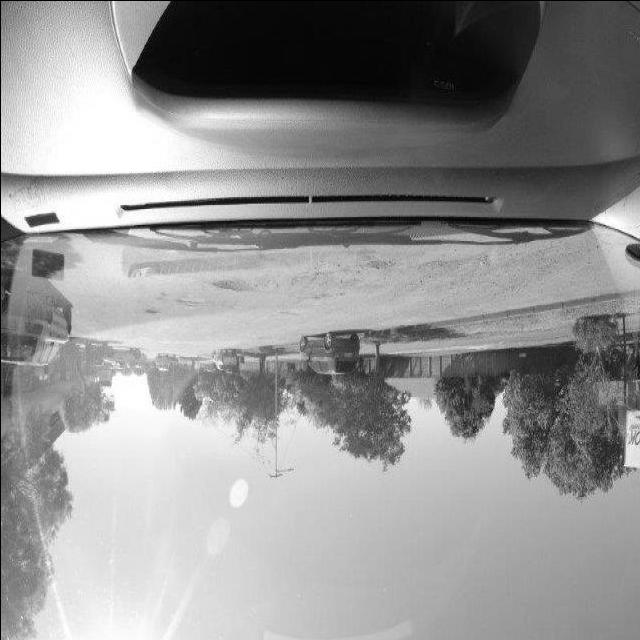lubang: (211, 274, 255, 296)
